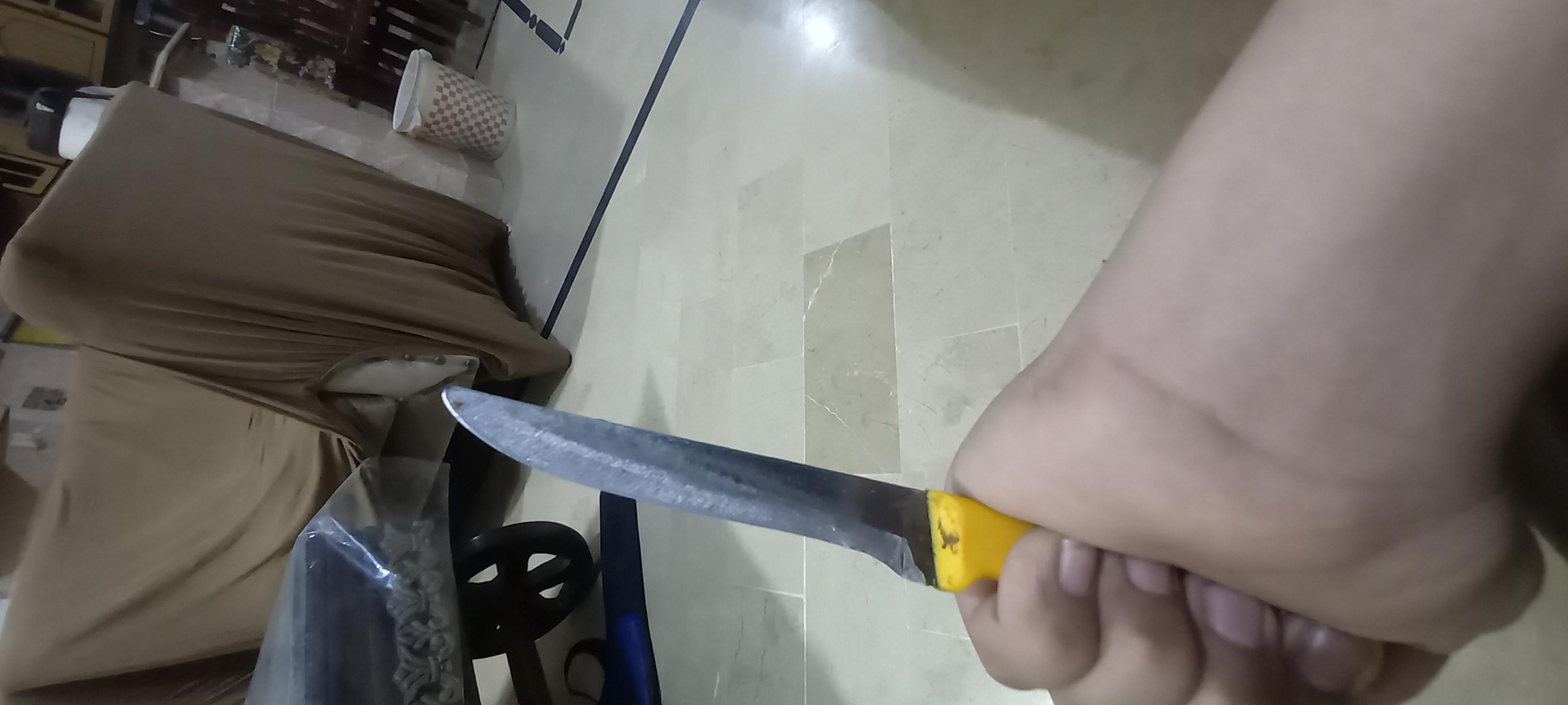knives: (1, 188, 742, 609)
